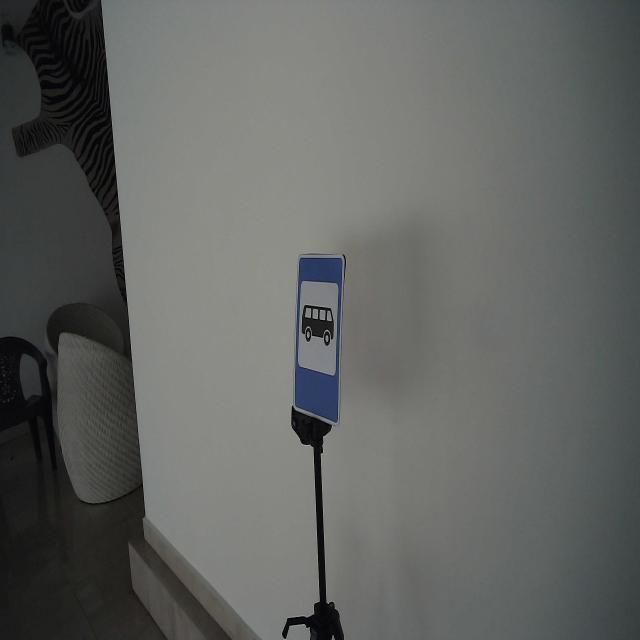bus_stop: (292, 253, 348, 429)
